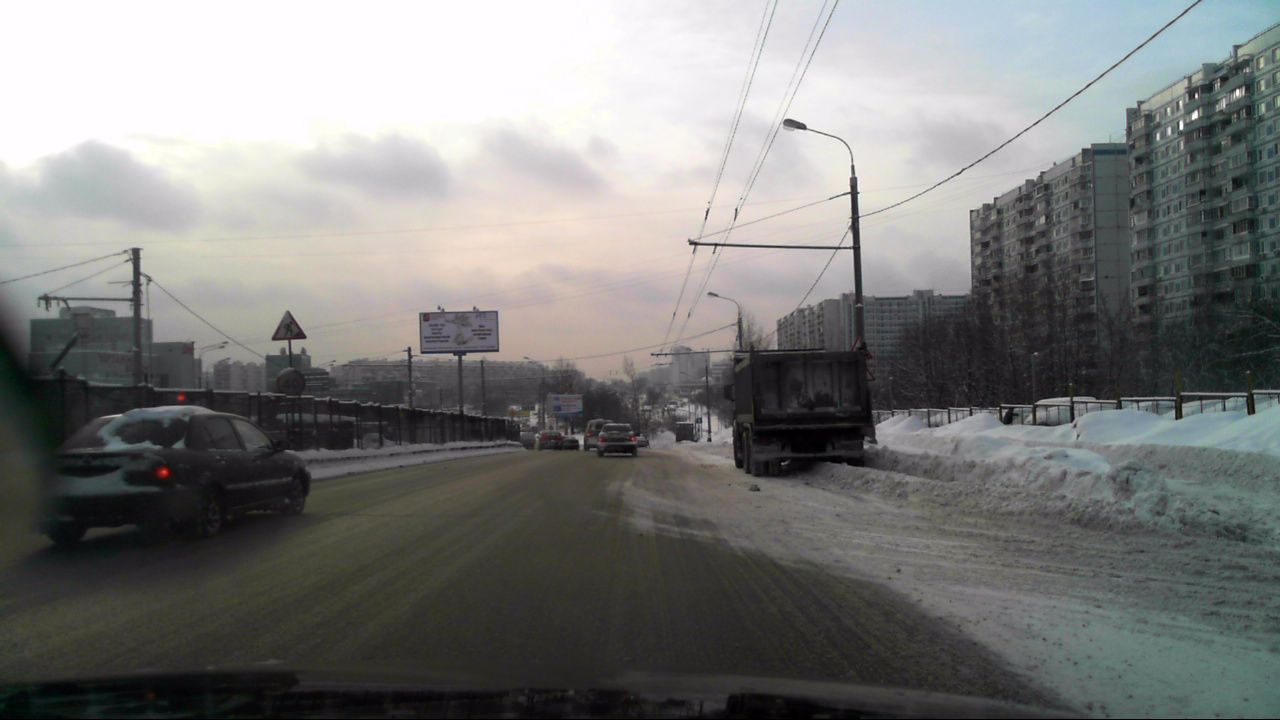speed_warning_40: (277, 368, 305, 398)
